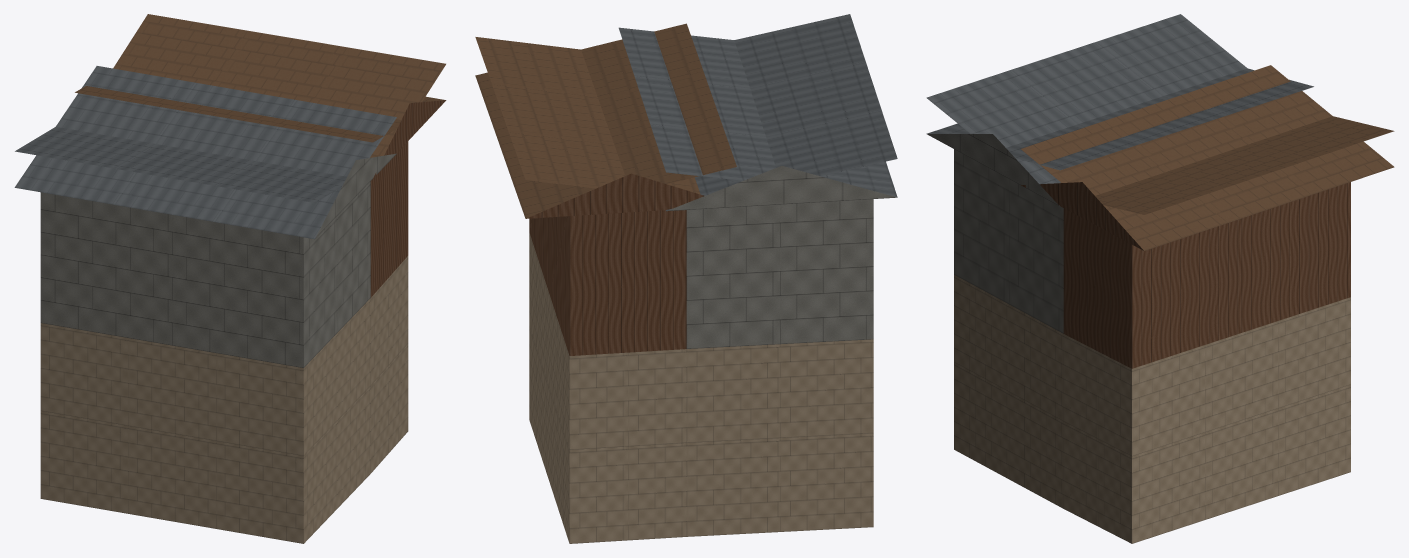
File: bld_c-7_21_607.gltf
3 views of the same model, side by side, from view 1: azimuth 30°, elevation 25°; view 2: azimuth 150°, elevation 25°; view 3: azimuth 270°, elevation 25° (orthographic). The views are drawn at different scales.
Visible parts, largest first — view 1: bld_c-7_21_607; view 2: bld_c-7_21_607; view 3: bld_c-7_21_607.
Boxes of the visible parts, <box> form: bld_c-7_21_607: <box>14,14,446,543</box>; bld_c-7_21_607: <box>475,14,897,543</box>; bld_c-7_21_607: <box>926,14,1394,543</box>.
Size of the model in its own units: 11.93 by 9.7 by 11.76.
Materials: 7 (7 with a texture image).
